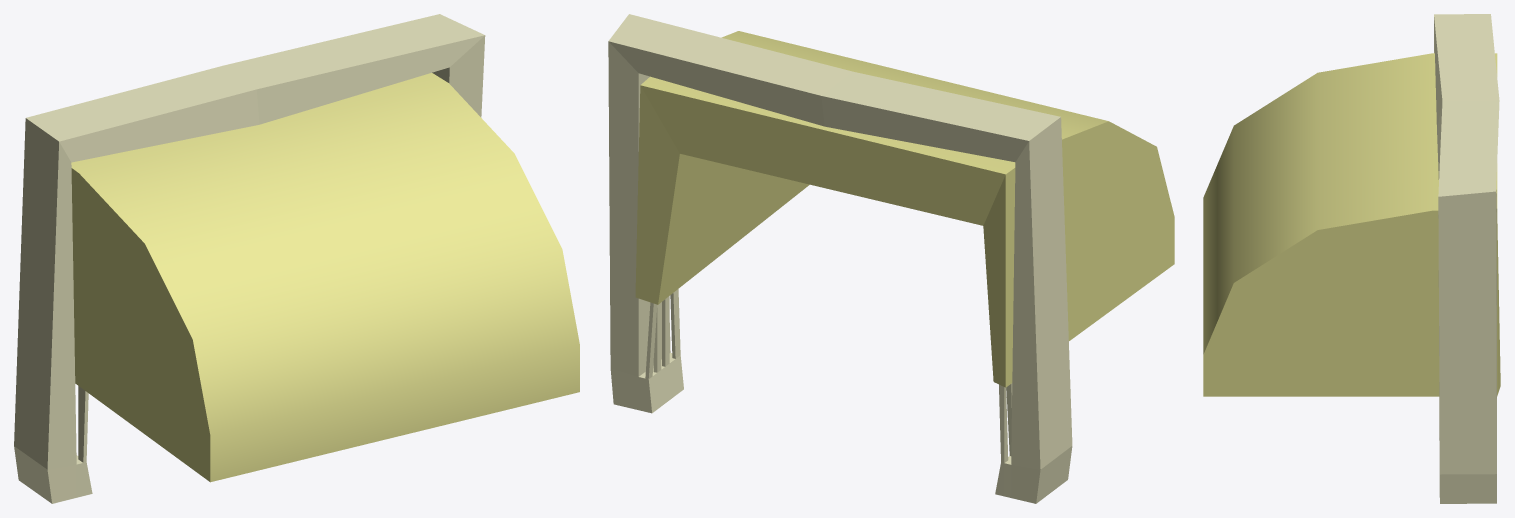
The model's file is SunScreenOpen.fbx.
3 views of the same model, side by side, from view 1: azimuth 30°, elevation 25°; view 2: azimuth 150°, elevation 25°; view 3: azimuth 270°, elevation 25° (orthographic). The views are drawn at different scales.
Visible parts, largest first — view 1: Cube.112; view 2: Cube.112; view 3: Cube.112.
Part boxes in pixels (x1,y1,x2,y2): Cube.112: (14,14,579,503); Cube.112: (608,14,1174,503); Cube.112: (1203,14,1500,503).
Size of the model in its own units: 98.87 by 77.26 by 66.23.
